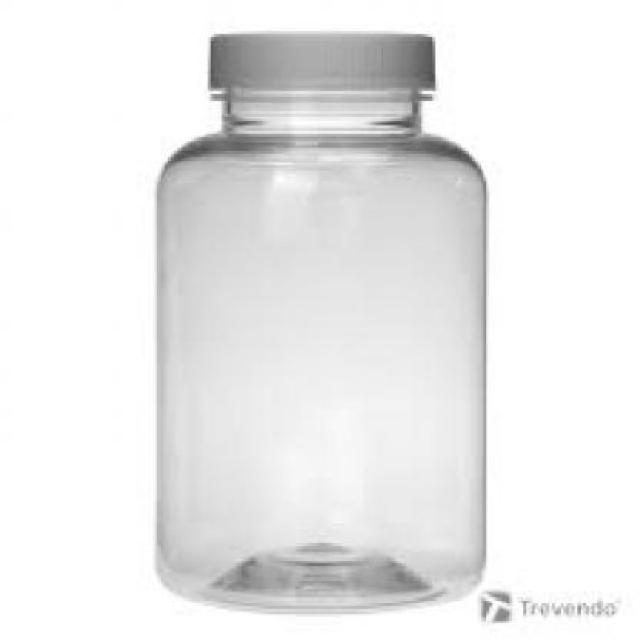kaca: (151, 91, 483, 606)
